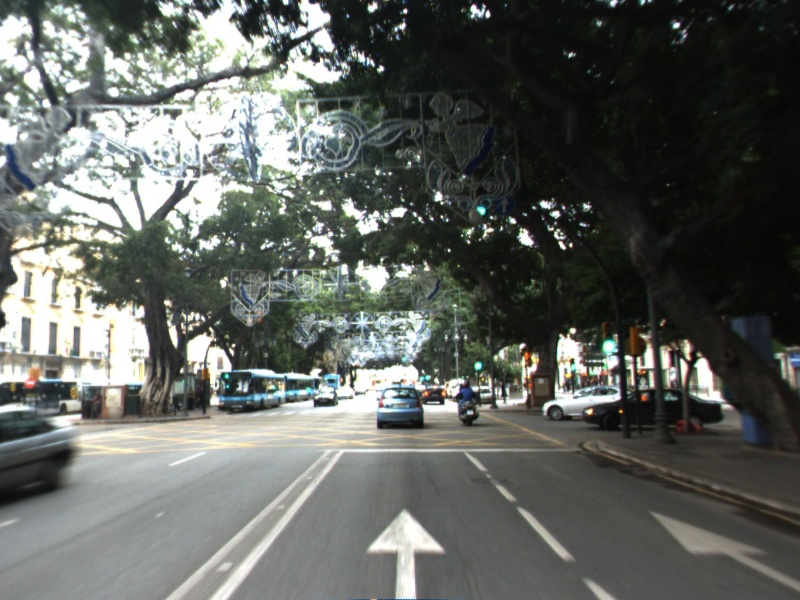STRAIGHT: (643, 506, 800, 592), (362, 504, 450, 600)
